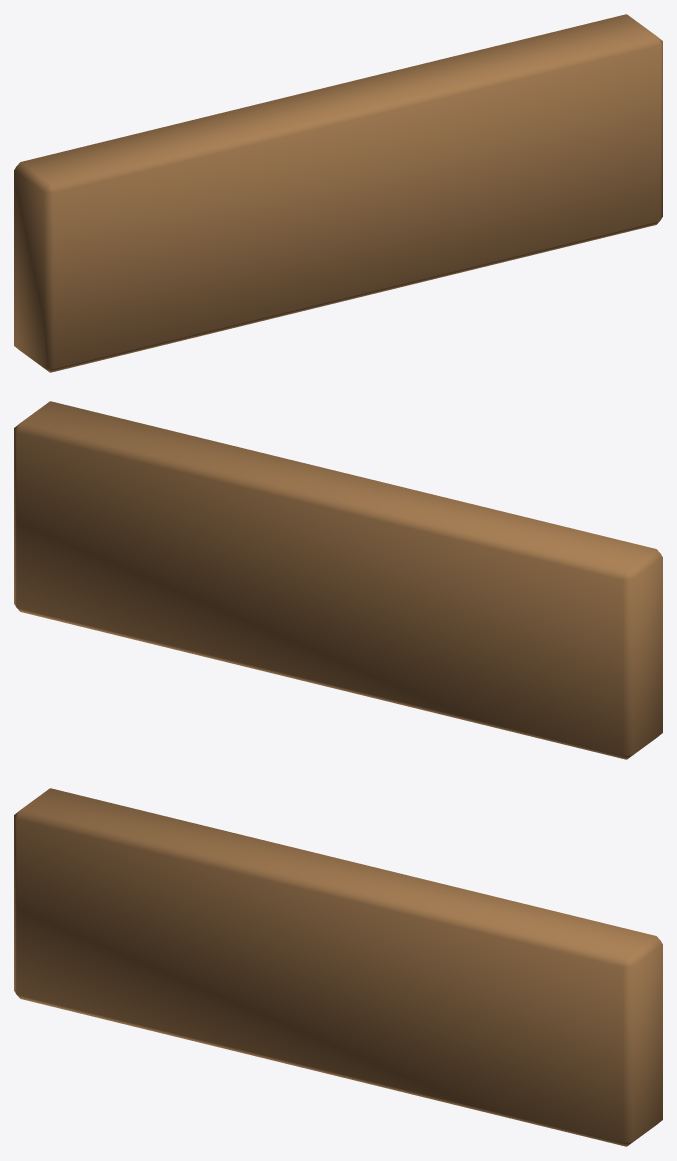
File: button.fg.001.glb
3 renders of one model, top to bottom at view 1: azimuth 30°, elevation 25°; view 2: azimuth 150°, elevation 25°; view 3: azimuth 330°, elevation 25°, orthographic.
Parts seen in each view (by area): view 1: button.fg.001; view 2: button.fg.001; view 3: button.fg.001.
Part boxes in pixels (box(x1,y1,x2,y2)): button.fg.001: box(14, 14, 662, 372); button.fg.001: box(14, 401, 662, 759); button.fg.001: box(14, 788, 662, 1146).
Bounding box in the file's own units: 4.8 × 1.4 × 0.5.
